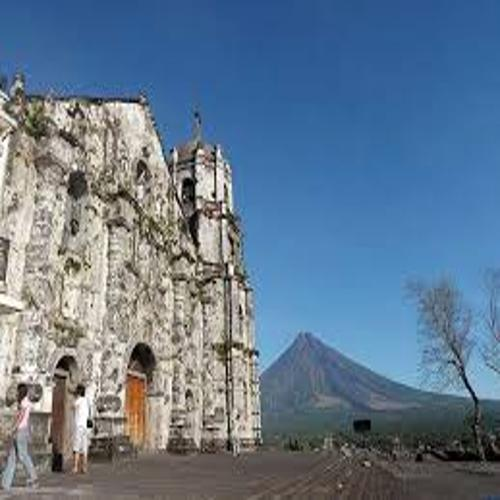Daraga Church: (2, 75, 264, 454)
